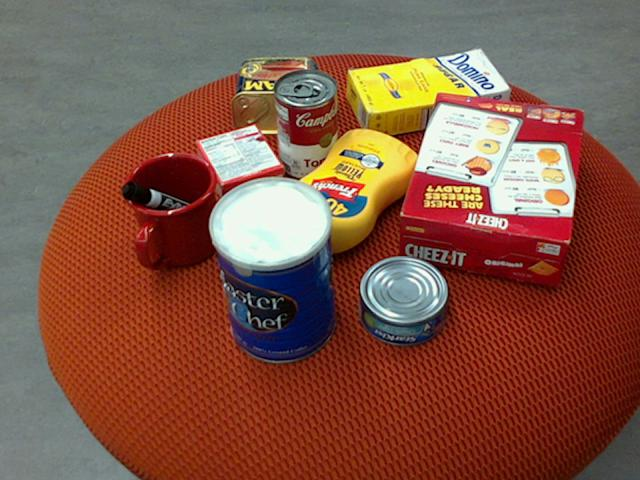cracker_box: (398, 91, 585, 284)
gelatin_box: (194, 123, 283, 204)
large_marker: (119, 181, 214, 228)
master_chef_can: (204, 178, 336, 364)
mug: (120, 152, 221, 269)
mustard_bottle: (275, 128, 420, 265)
potted_meat_can: (232, 56, 321, 133)
sugar_box: (346, 48, 511, 138)
tomato_soup_can: (273, 67, 338, 178)
tuna_fish_can: (359, 255, 449, 346)
